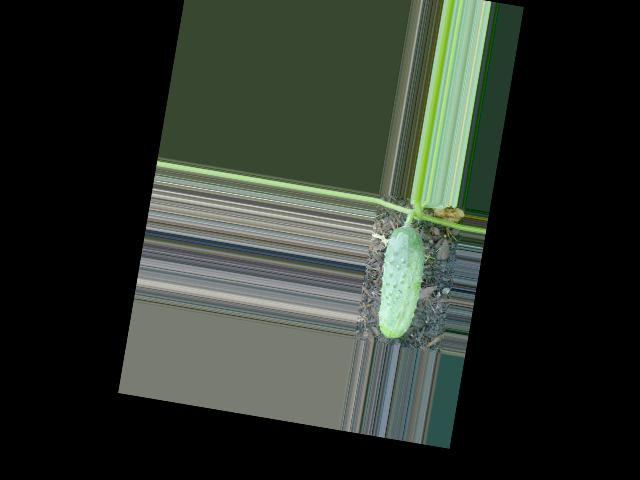cucumber: (371, 223, 430, 342)
